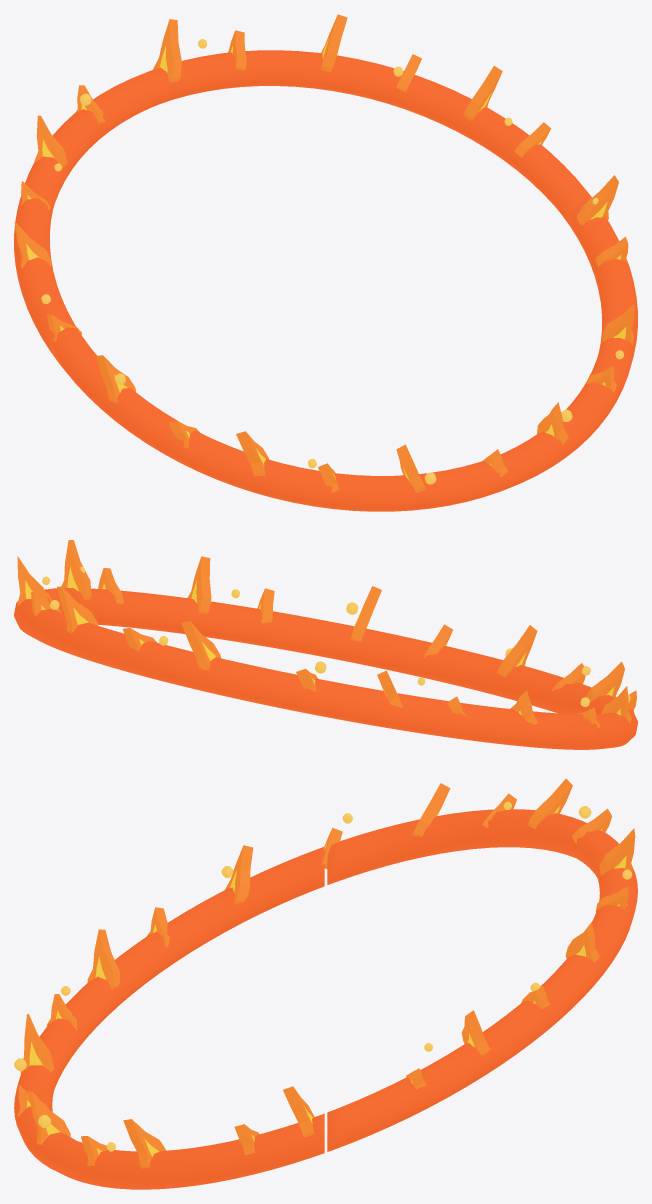
Rendered from orbit_fire.glb.
3 renders of one model, top to bottom at view 1: azimuth 30°, elevation 25°; view 2: azimuth 150°, elevation 25°; view 3: azimuth 270°, elevation 25°, orthographic. The views are drawn at different scales.
Visible parts, largest first — view 1: glow_b.001, glow_f.001, flame16, flame0, flame20, flame18, flame14, flame10, flame8; view 2: glow_f.001, glow_b.001, flame0, flame16, flame2, flame6, flame18, flame8, flame4, flame20, flame10, flame1 (+6 smaller); view 3: glow_f.001, glow_b.001, flame8, flame10, flame2, flame6, flame14, flame16, flame4, flame0, flame12, flame20 (+1 smaller).
Boxes of the visible parts, box(x1,y1,x2,y2) form: glow_b.001: box(52, 201, 637, 511); glow_f.001: box(14, 50, 591, 353); flame16: box(153, 19, 181, 82); flame0: box(577, 175, 618, 225); flame20: box(463, 66, 502, 121); flame18: box(320, 14, 347, 72); flame14: box(34, 115, 67, 168); flame10: box(96, 355, 135, 403); flame8: box(236, 431, 269, 476); glow_f.001: box(14, 588, 599, 749); glow_b.001: box(66, 588, 637, 749); flame0: box(61, 540, 91, 599); flame16: box(181, 621, 220, 670); flame2: box(187, 556, 211, 613); flame6: box(497, 625, 537, 677); flame18: box(57, 586, 97, 632); flame8: box(585, 661, 624, 702); flame4: box(350, 586, 381, 641); flame20: box(17, 556, 48, 605); flame10: box(601, 686, 631, 723); flame1: box(98, 568, 123, 603); glow_f.001: box(327, 809, 637, 1151); glow_b.001: box(14, 846, 324, 1189); flame8: box(87, 929, 119, 989); flame10: box(225, 845, 253, 903); flame2: box(123, 1119, 166, 1168); flame6: box(20, 1014, 54, 1072); flame14: box(528, 778, 572, 829); flame16: box(599, 828, 635, 876); flame4: box(28, 1091, 70, 1144); flame0: box(283, 1086, 314, 1137); flame12: box(412, 783, 450, 836); flame20: box(461, 1010, 490, 1055).
Size of the model in its own units: 2.97 by 1.42 by 2.78.
